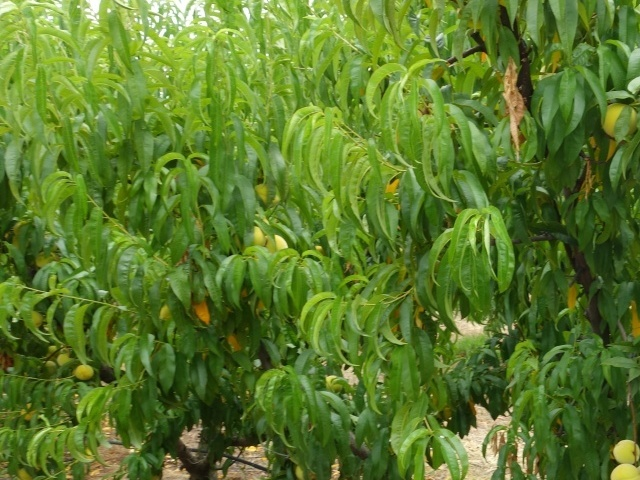peach: (596, 99, 637, 140), (610, 435, 640, 467), (259, 234, 290, 261), (248, 225, 274, 255), (606, 460, 640, 480), (71, 361, 95, 384)
